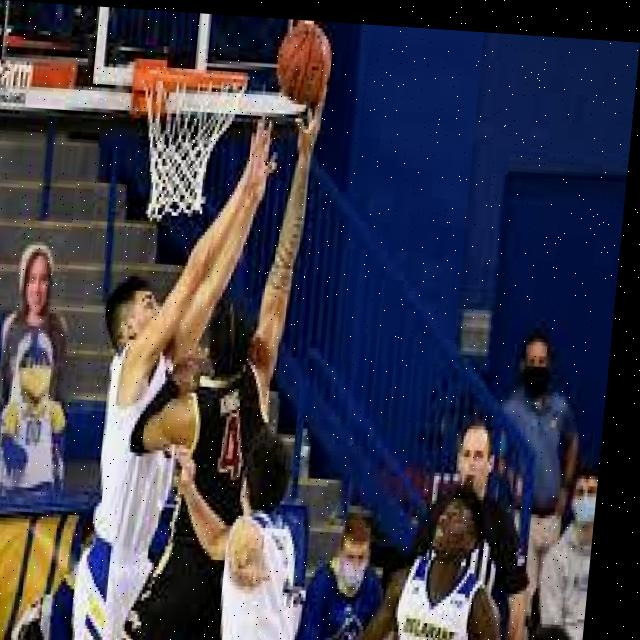basketball: (272, 19, 338, 110)
hoop: (134, 66, 248, 216)
